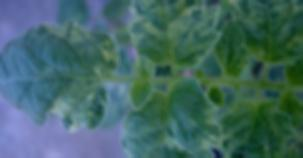Tomato leaf mosaic virus: (0, 19, 119, 135), (123, 79, 228, 158), (126, 0, 223, 71), (231, 0, 303, 76), (215, 93, 297, 158)
